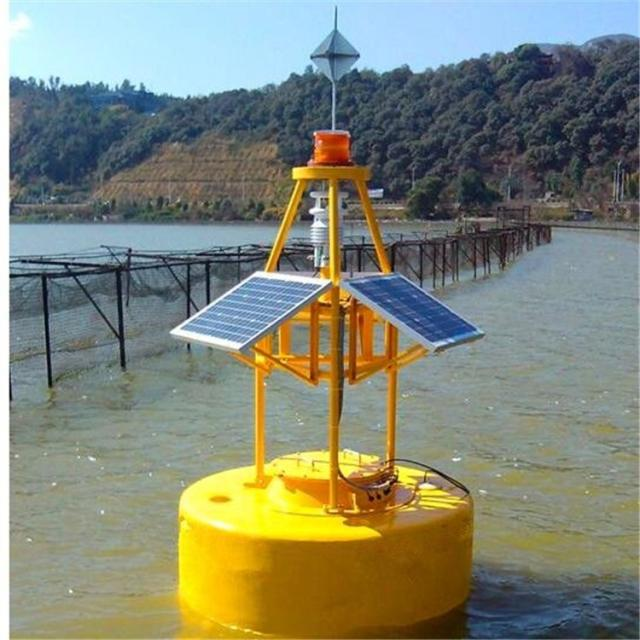buoy: (168, 11, 482, 634)
